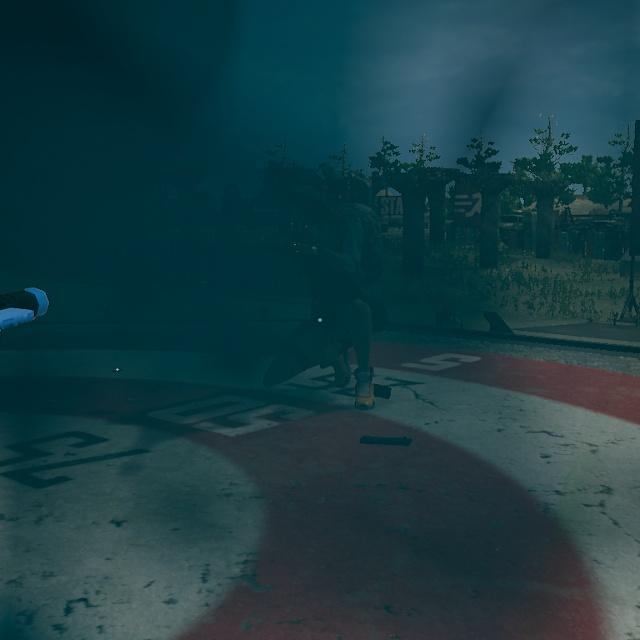head: (278, 154, 345, 226)
people: (245, 137, 410, 412)
